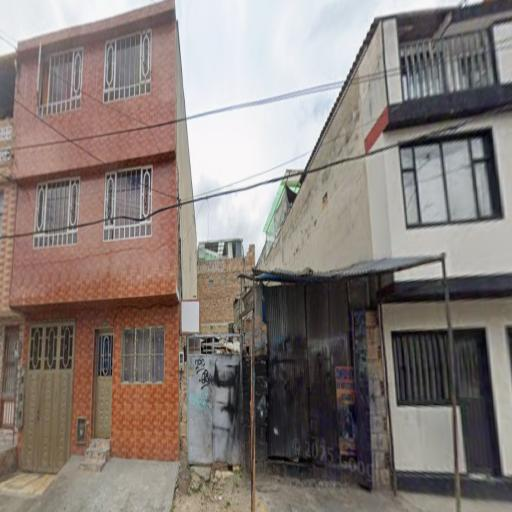Casa: (258, 0, 512, 490), (4, 0, 200, 474)
